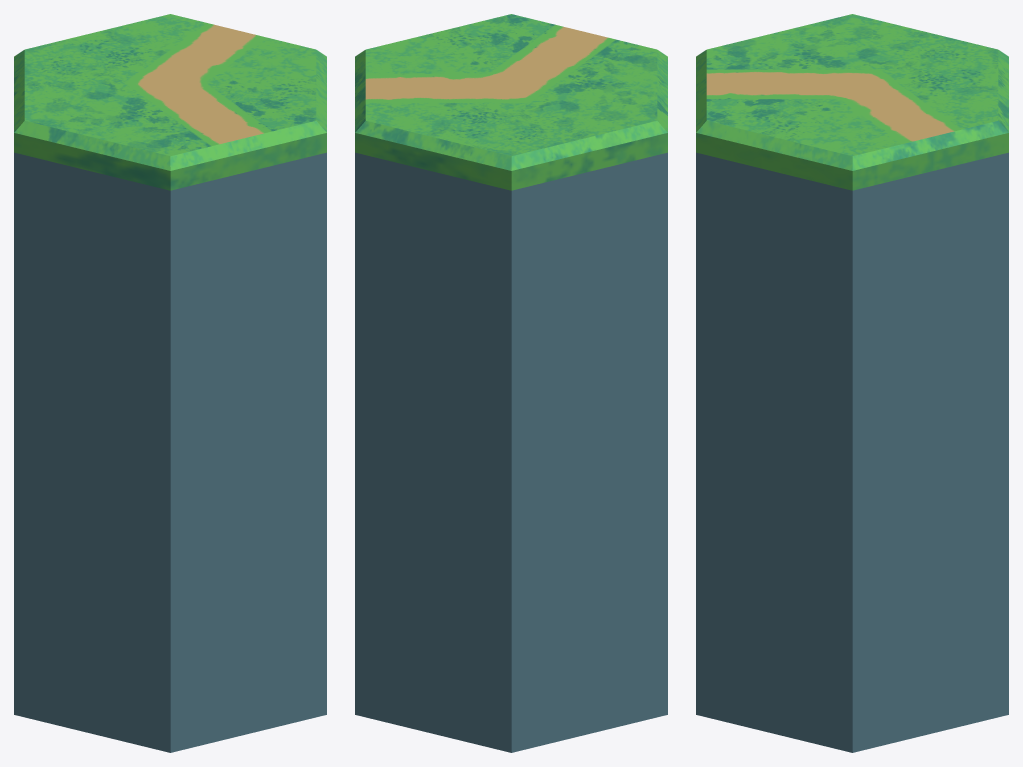
Rendered from TerrainTurn.fbx.
3 renders of one model, left to right at view 1: azimuth 30°, elevation 25°; view 2: azimuth 150°, elevation 25°; view 3: azimuth 270°, elevation 25°, orthographic.
Parts seen in each view (by area): view 1: TerrainTurn_LOD0; view 2: TerrainTurn_LOD0; view 3: TerrainTurn_LOD0.
Boxes of the visible parts, x1,y1,x2,y2 form: TerrainTurn_LOD0: (14,14,326,752); TerrainTurn_LOD0: (355,14,667,752); TerrainTurn_LOD0: (696,14,1008,752).
Size of what is drawn, in the model's own units: 500 by 904 by 433.
